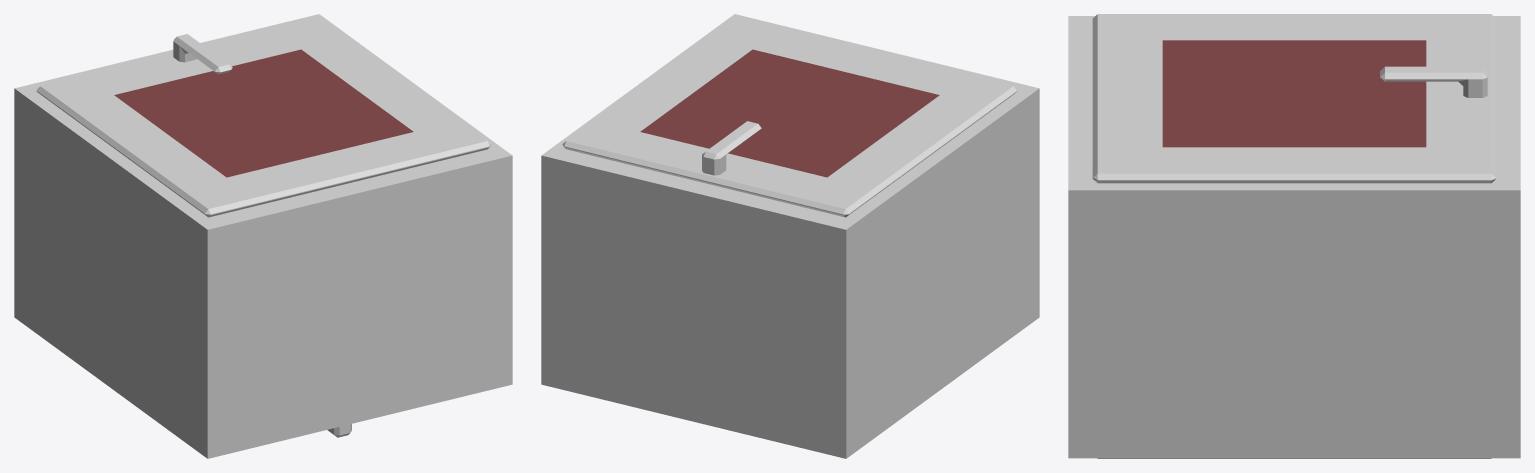
The picture shows the model from 3 angles, left to right: view 1: azimuth 30°, elevation 25°; view 2: azimuth 150°, elevation 25°; view 3: azimuth 270°, elevation 25°; orthographic projection. The views are drawn at different scales.
Parts seen in each view (by area): view 1: Cube; view 2: Cube; view 3: Cube.
Part boxes in pixels (x1=…): Cube: x1=14, y1=14, x2=512, y2=458; Cube: x1=541, y1=14, x2=1039, y2=458; Cube: x1=1068, y1=14, x2=1520, y2=458.
Size of the model in its own units: 71 by 63.12 by 78.
